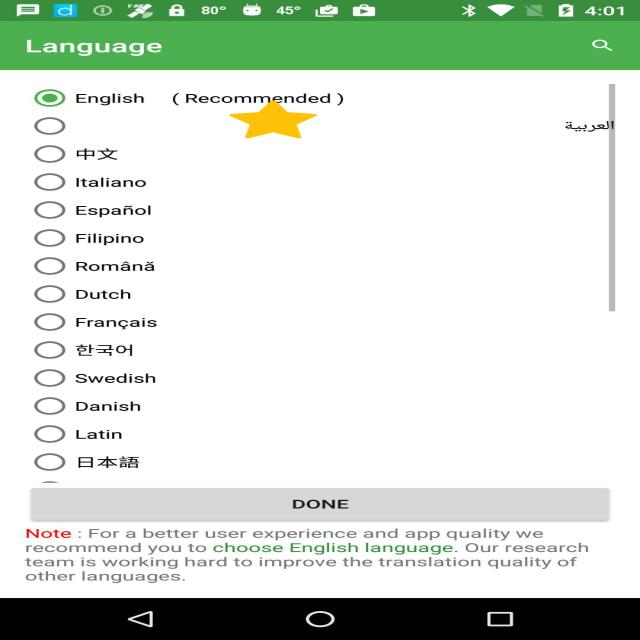forced continuity: (229, 100, 317, 138)
